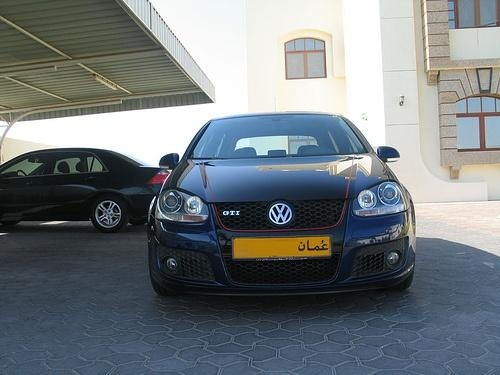car: (149, 112, 418, 300), (1, 147, 172, 230)
